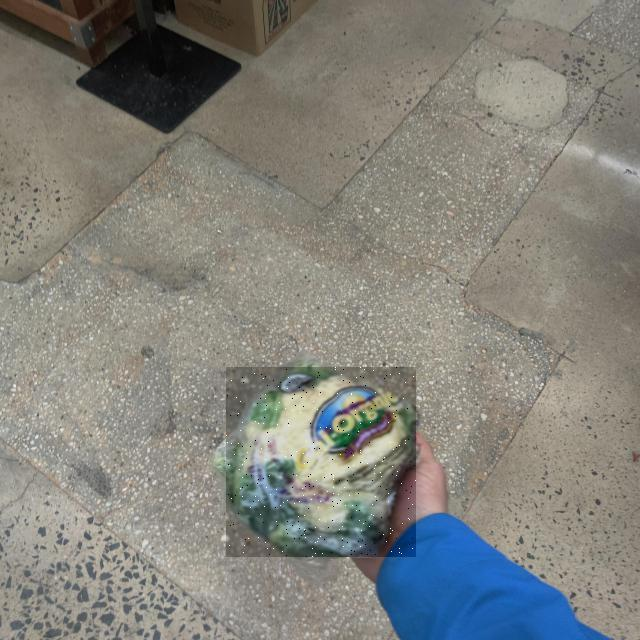Cauliflower: (227, 367, 417, 557)
